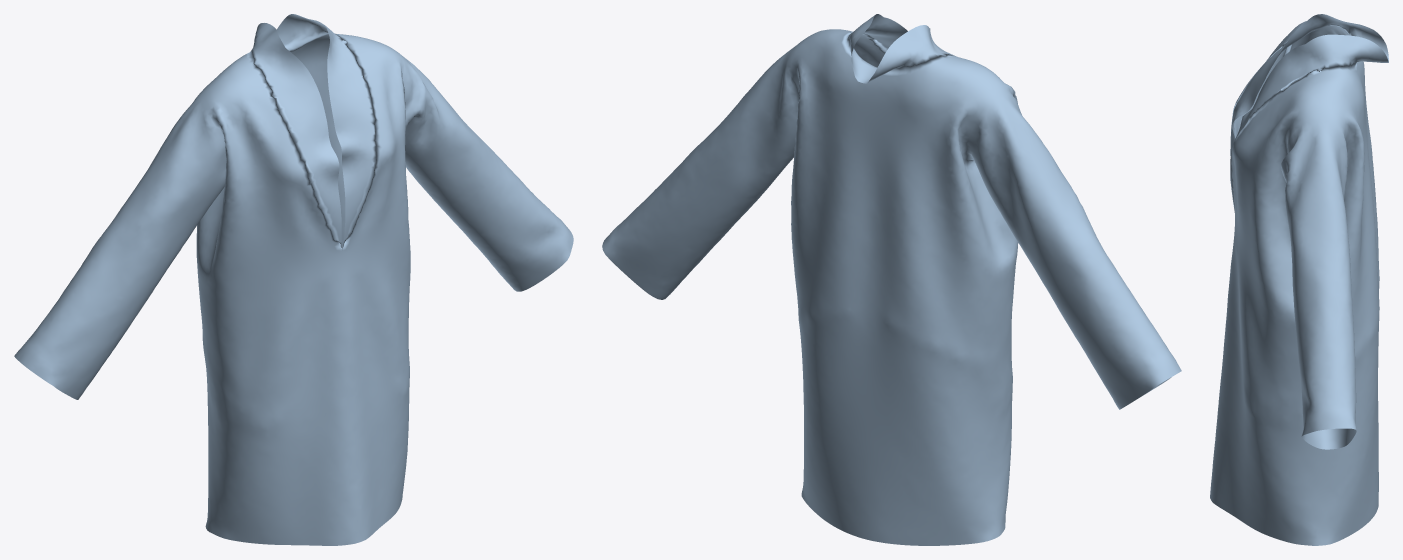
Rendered from coat_L.glb.
3 renders of one model, left to right at view 1: azimuth 30°, elevation 25°; view 2: azimuth 150°, elevation 25°; view 3: azimuth 270°, elevation 25°, orthographic. The views are drawn at different scales.
Parts seen in each view (by area): view 1: geometry_0; view 2: geometry_0; view 3: geometry_0.
Boxes of the visible parts, x1,y1,x2,y2 form: geometry_0: [14, 14, 573, 545]; geometry_0: [602, 14, 1181, 545]; geometry_0: [1210, 14, 1388, 545].
Size of the model in its own units: 1.24 by 1.04 by 0.3506.
